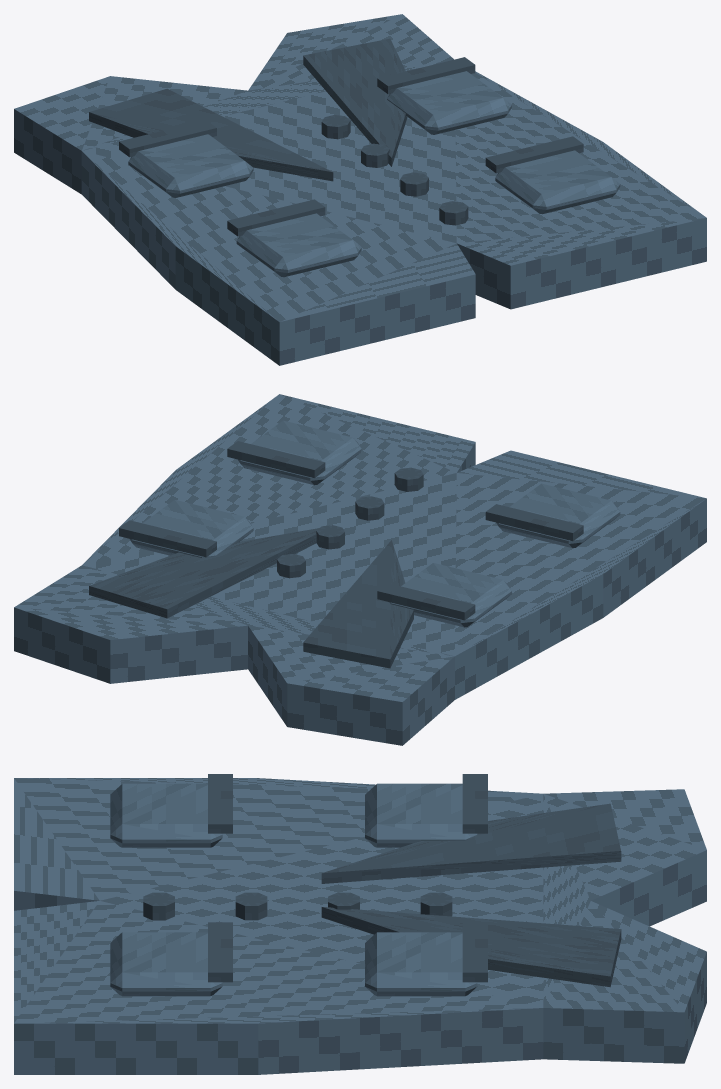
File: vest_jean.glb
The picture shows the model from 3 angles, top to bottom: view 1: azimuth 30°, elevation 25°; view 2: azimuth 150°, elevation 25°; view 3: azimuth 270°, elevation 25°; orthographic projection. The views are drawn at different scales.
Visible parts, largest first — view 1: block_coat body, block_patch pocket (×4), block_lapel (×2), block_pocket welt (×4), block_button (×4); view 2: block_coat body, block_lapel (×2), block_patch pocket (×4), block_pocket welt (×4), block_button (×4); view 3: block_coat body, block_patch pocket (×4), block_lapel (×2), block_pocket welt (×4), block_button (×4).
Part boxes in pixels (x1=…): block_coat body: x1=14, y1=14, x2=706, y2=365; block_patch pocket (×4): x1=128, y1=71, x2=620, y2=277; block_lapel (×2): x1=89, y1=38, x2=407, y2=181; block_pocket welt (×4): x1=119, y1=57, x2=583, y2=236; block_button (×4): x1=321, y1=115, x2=468, y2=225; block_coat body: x1=14, y1=394, x2=706, y2=745; block_lapel (×2): x1=89, y1=528, x2=413, y2=668; block_patch pocket (×4): x1=129, y1=420, x2=620, y2=627; block_pocket welt (×4): x1=119, y1=441, x2=583, y2=620; block_button (×4): x1=277, y1=467, x2=423, y2=578; block_coat body: x1=14, y1=778, x2=706, y2=1074; block_patch pocket (×4): x1=110, y1=783, x2=477, y2=996; block_lapel (×2): x1=321, y1=803, x2=621, y2=987; block_pocket welt (×4): x1=208, y1=774, x2=487, y2=982; block_button (×4): x1=143, y1=892, x2=452, y2=920.
Bounding box in the file's own units: 0.5367 × 0.0805 × 0.6403.
Materials: 1 (1 with a texture image).
